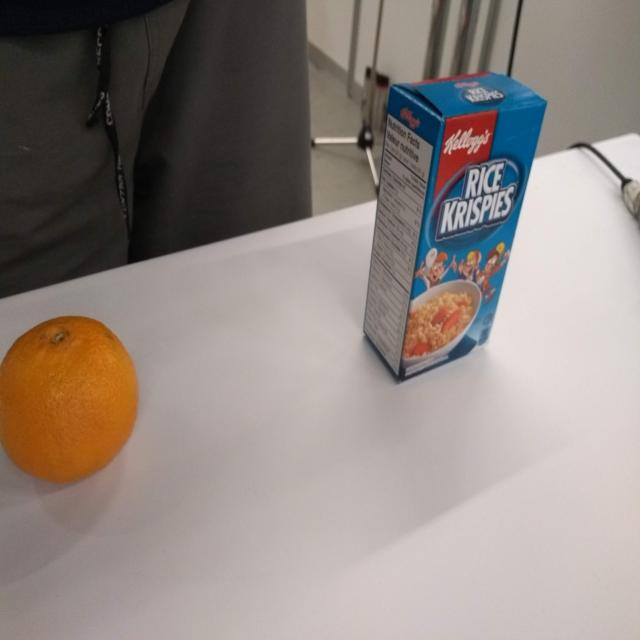cereal: (360, 67, 552, 389)
